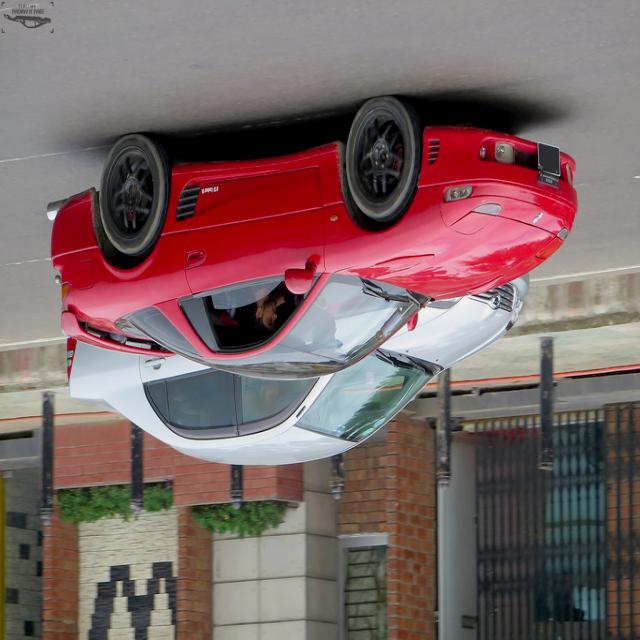red: (46, 87, 581, 383)
silver: (46, 276, 536, 471)
